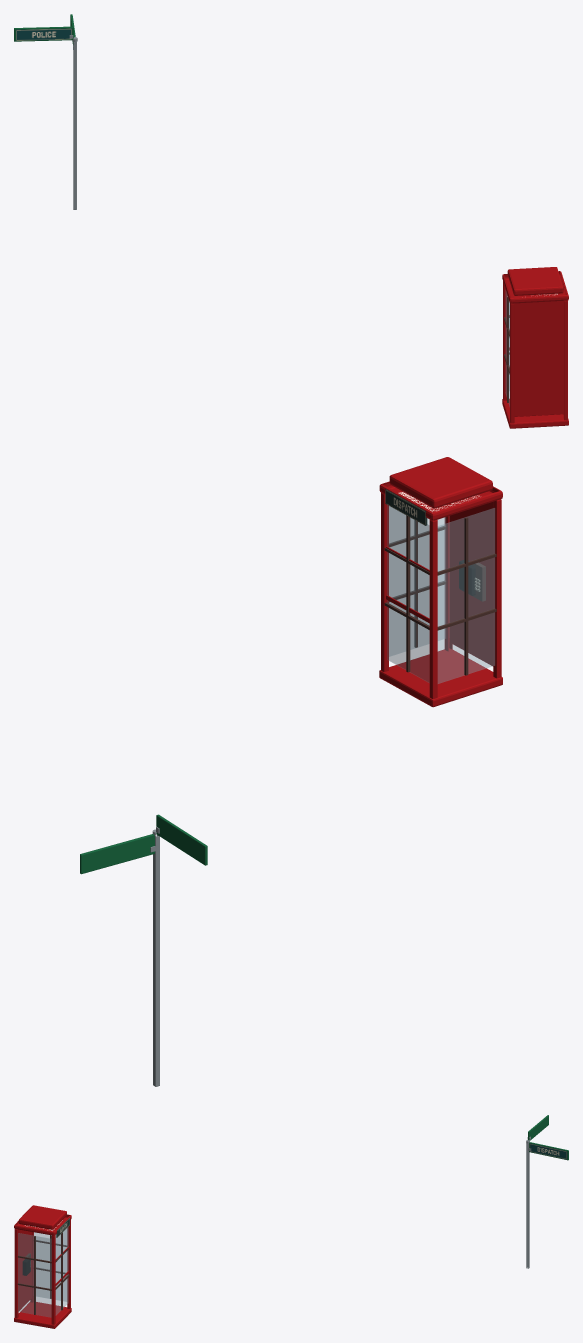
File: police.glb
The picture shows the model from 3 angles, top to bottom: view 1: azimuth 30°, elevation 25°; view 2: azimuth 150°, elevation 25°; view 3: azimuth 270°, elevation 25°; orthographic projection. The views are drawn at different scales.
Parts seen in each view (by area): view 1: geometry_08984195ac2d4, geometry_0, geometry_3; view 2: geometry_08984195ac2d4, geometry_1baa578fe4972, geometry_1, geometry_0; view 3: geometry_08984195ac2d4, geometry_1baa578fe4972, geometry_0, geometry_1, geometry_2.
Part boxes in pixels (<box>): geometry_08984195ac2d4: <box>502,267,568,428</box>; geometry_0: <box>69,35,77,209</box>; geometry_3: <box>16,28,71,40</box>; geometry_08984195ac2d4: <box>379,457,502,707</box>; geometry_1baa578fe4972: <box>387,505,494,683</box>; geometry_1: <box>80,814,207,874</box>; geometry_0: <box>150,826,159,1086</box>; geometry_08984195ac2d4: <box>14,1205,71,1328</box>; geometry_1baa578fe4972: <box>18,1227,68,1317</box>; geometry_0: <box>526,1136,531,1268</box>; geometry_1: <box>528,1115,568,1160</box>; geometry_2: <box>529,1143,567,1159</box>.
Bounding box in the file's own units: 4.16 × 3.36 × 12.44.
Materials: 11 (3 with a texture image).
